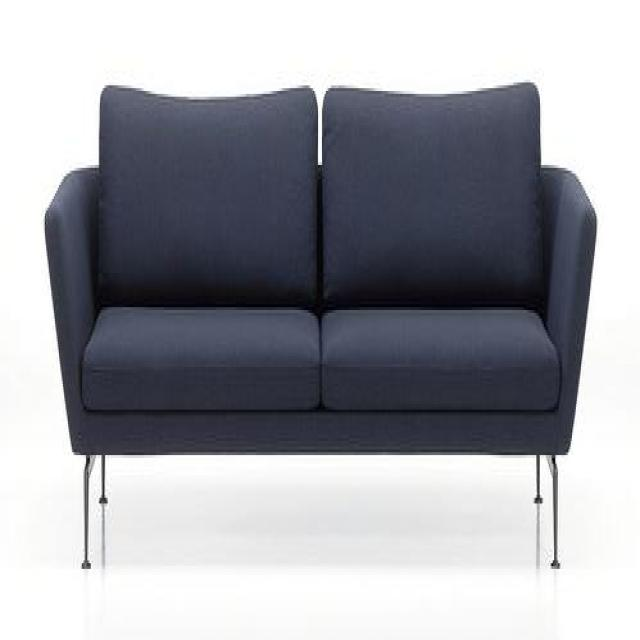sofa: (43, 73, 600, 581)
